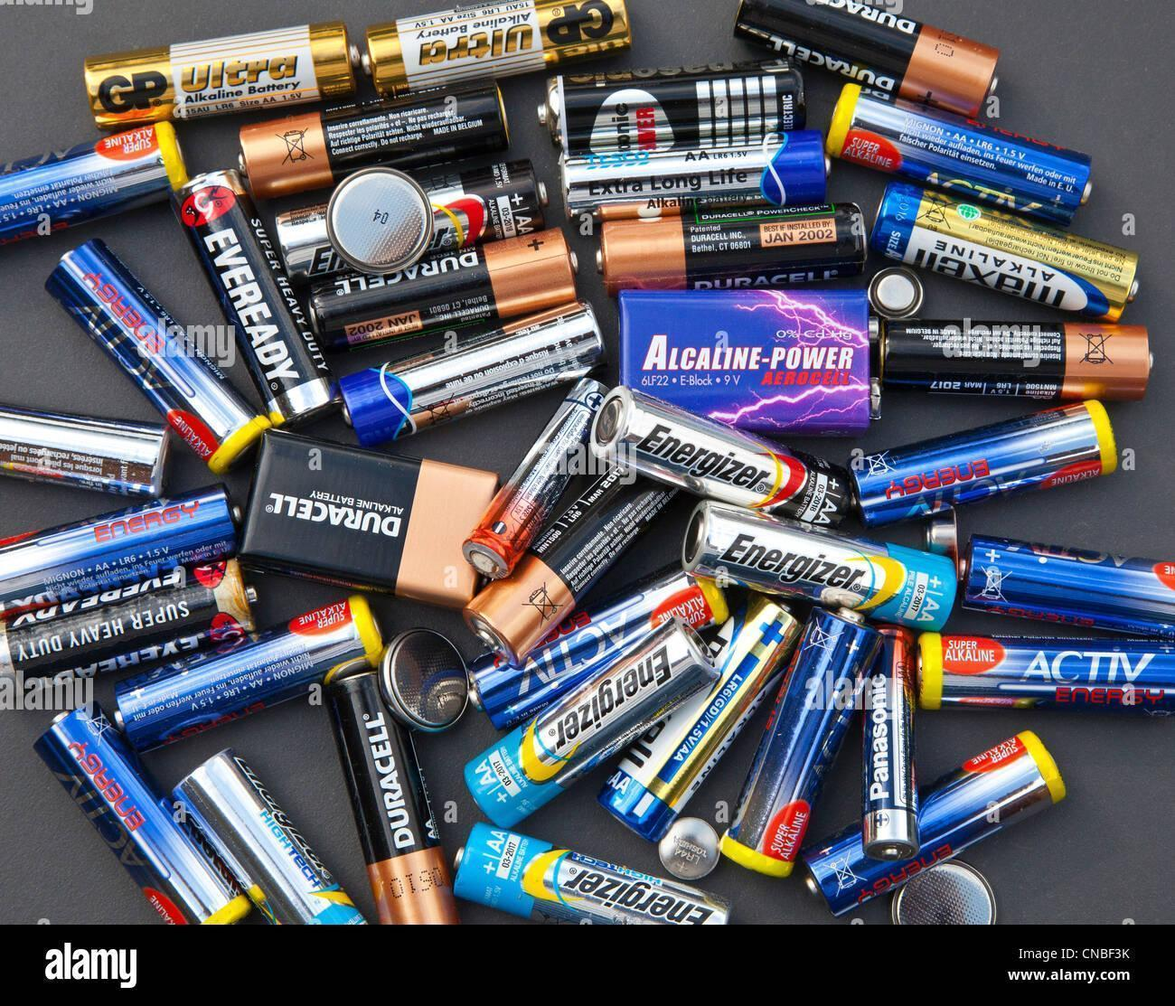AA: (452, 607, 732, 841), (589, 581, 821, 857), (32, 227, 279, 484), (21, 687, 260, 927), (709, 592, 893, 889), (101, 585, 397, 768), (165, 154, 351, 438), (451, 462, 689, 683), (330, 289, 618, 459), (862, 171, 1151, 334), (820, 74, 1105, 236), (584, 375, 859, 541), (673, 489, 967, 640), (840, 391, 1130, 536), (302, 219, 588, 361), (230, 75, 518, 207), (0, 477, 252, 623), (729, 0, 1010, 126), (79, 17, 362, 136), (445, 813, 737, 927), (555, 126, 840, 232), (591, 195, 875, 299), (355, 0, 637, 103), (533, 53, 813, 156), (0, 118, 195, 256), (874, 313, 1160, 407)
COIN: (324, 164, 438, 278), (377, 625, 472, 737), (658, 814, 722, 881), (865, 264, 924, 323)
